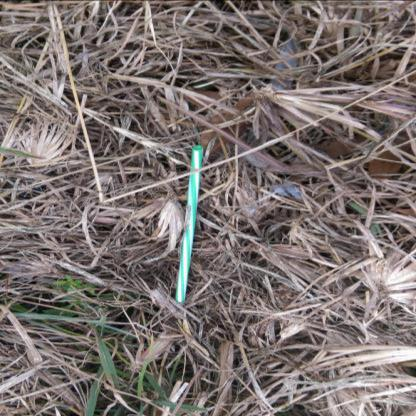Plastic bag - wrapper: (268, 182, 303, 199), (244, 208, 258, 215)
Straw: (175, 146, 204, 306)
